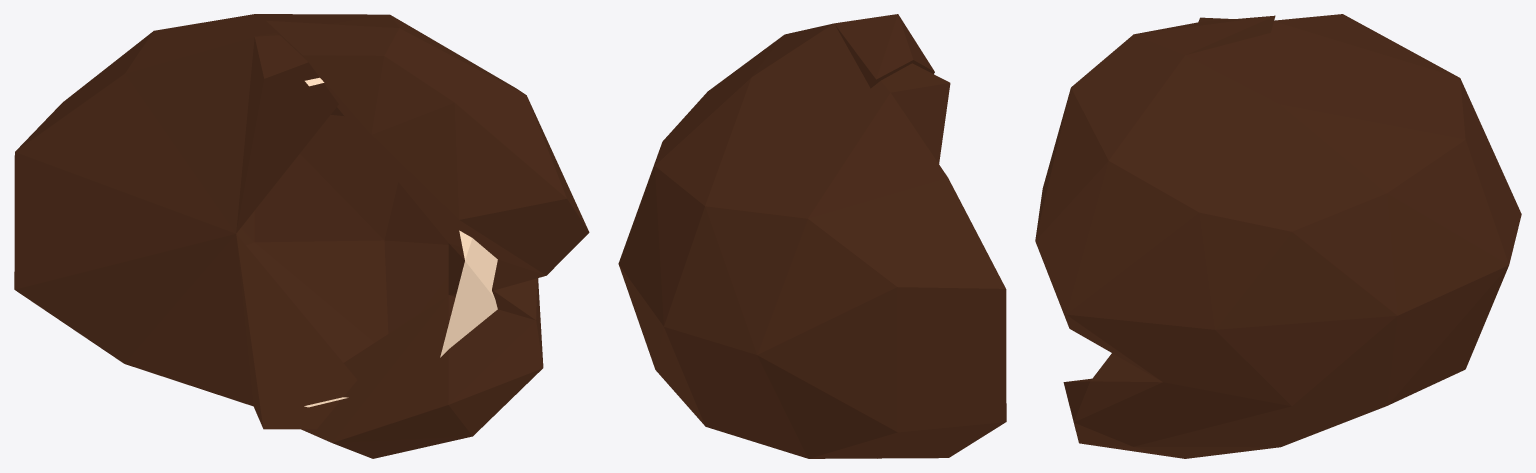
Rendered from hair6.glb.
The picture shows the model from 3 angles, left to right: view 1: azimuth 30°, elevation 25°; view 2: azimuth 150°, elevation 25°; view 3: azimuth 270°, elevation 25°; orthographic projection. The views are drawn at different scales.
Parts seen in each view (by area): view 1: tomodachi-2026-03-08-14-47-18-802, tomodachi-2026-03-08-14-47-18-802.008; view 2: tomodachi-2026-03-08-14-47-18-802; view 3: tomodachi-2026-03-08-14-47-18-802.
Part boxes in pixels (<box>): tomodachi-2026-03-08-14-47-18-802: <box>14,14,589,458</box>; tomodachi-2026-03-08-14-47-18-802.008: <box>304,77,497,407</box>; tomodachi-2026-03-08-14-47-18-802: <box>618,14,1006,458</box>; tomodachi-2026-03-08-14-47-18-802: <box>1035,14,1521,458</box>.
Size of the model in its own units: 1.33 by 1.21 by 1.29.
2 materials, 2 textured.
